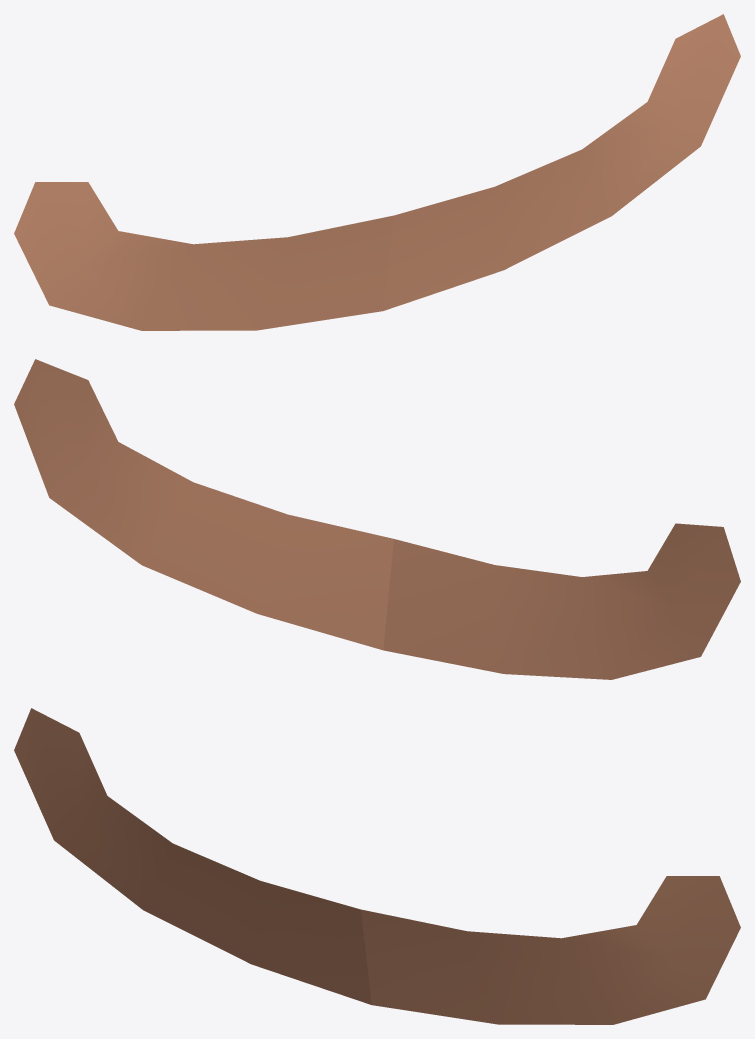
File: lips_2.fbx
3 renders of one model, top to bottom at view 1: azimuth 30°, elevation 25°; view 2: azimuth 150°, elevation 25°; view 3: azimuth 330°, elevation 25°, orthographic.
Parts seen in each view (by area): view 1: lips_2; view 2: lips_2; view 3: lips_2.
Boxes of the visible parts, box(x1,y1,x2,y2) form: lips_2: box(14, 14, 740, 330); lips_2: box(14, 359, 740, 679); lips_2: box(14, 708, 740, 1024).
Size of the model in its own units: 8.79 by 2.43 by 0.3997.
